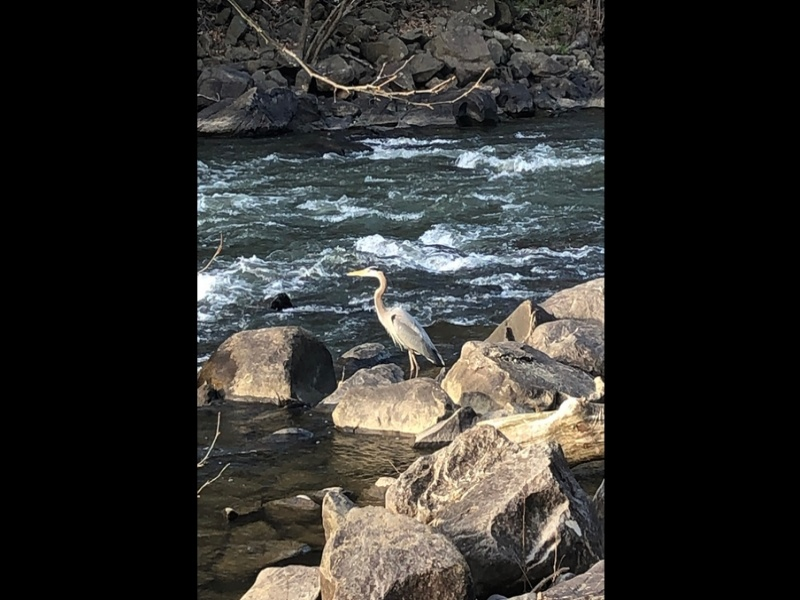heron: (343, 262, 445, 382)
